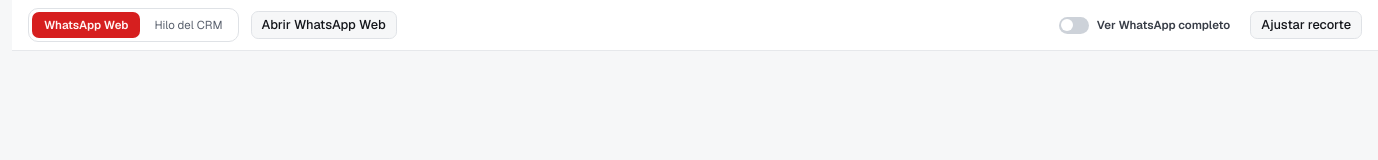
Test: CentroConversacion: selector y recuerdo por usuario › sin localStorage el selector igual funciona durante la sesión
What coordinates should you click on to do the following:
click the button "Hilo del CRM"
I would click on:
 (189, 25)
Its box is [142,12,235,38].
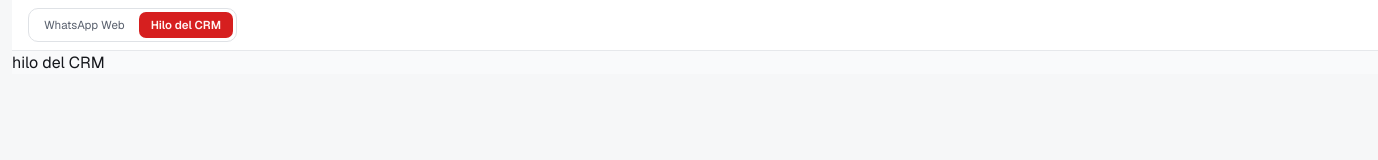
Now the text "hilo del CRM" is shown, box [12,52,105,73]
